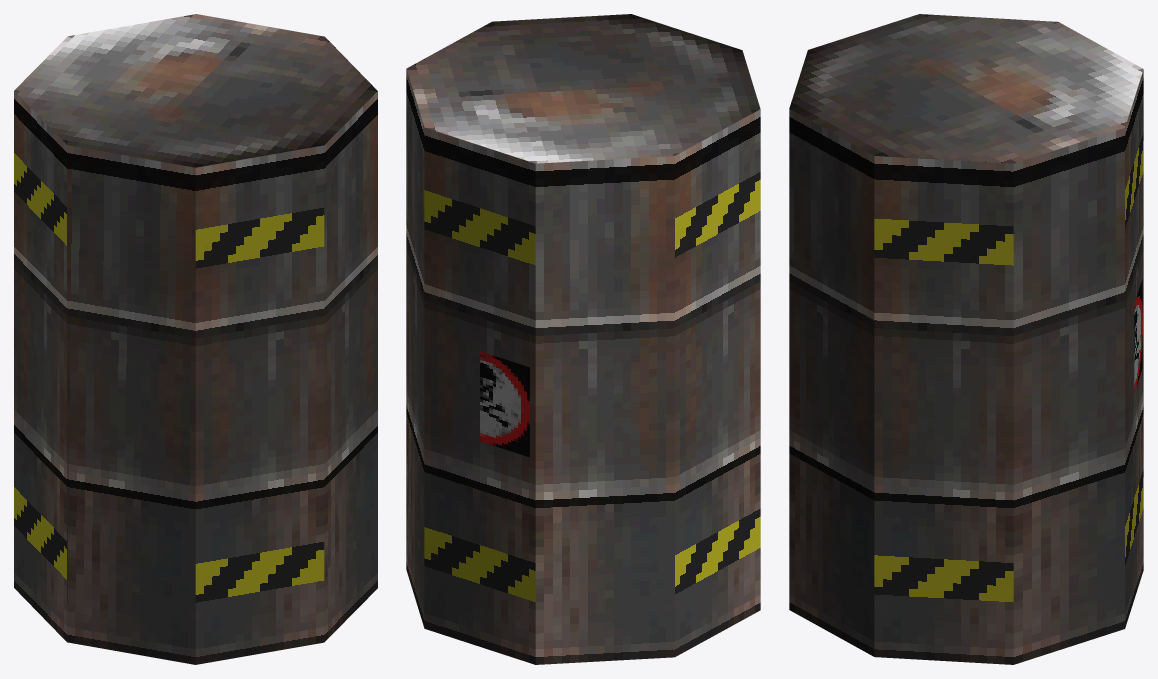
The model's file is primary_154.glb.
3 views of the same model, side by side, from view 1: azimuth 30°, elevation 25°; view 2: azimuth 150°, elevation 25°; view 3: azimuth 270°, elevation 25° (orthographic).
Visible parts, largest first — view 1: Object; view 2: Object; view 3: Object.
Part boxes in pixels (x1=…): Object: x1=14, y1=14, x2=377, y2=664; Object: x1=406, y1=14, x2=760, y2=664; Object: x1=789, y1=14, x2=1143, y2=664.
Bounding box in the file's own units: 0.6516 × 1.02 × 0.6516.
9 materials, 9 textured.
